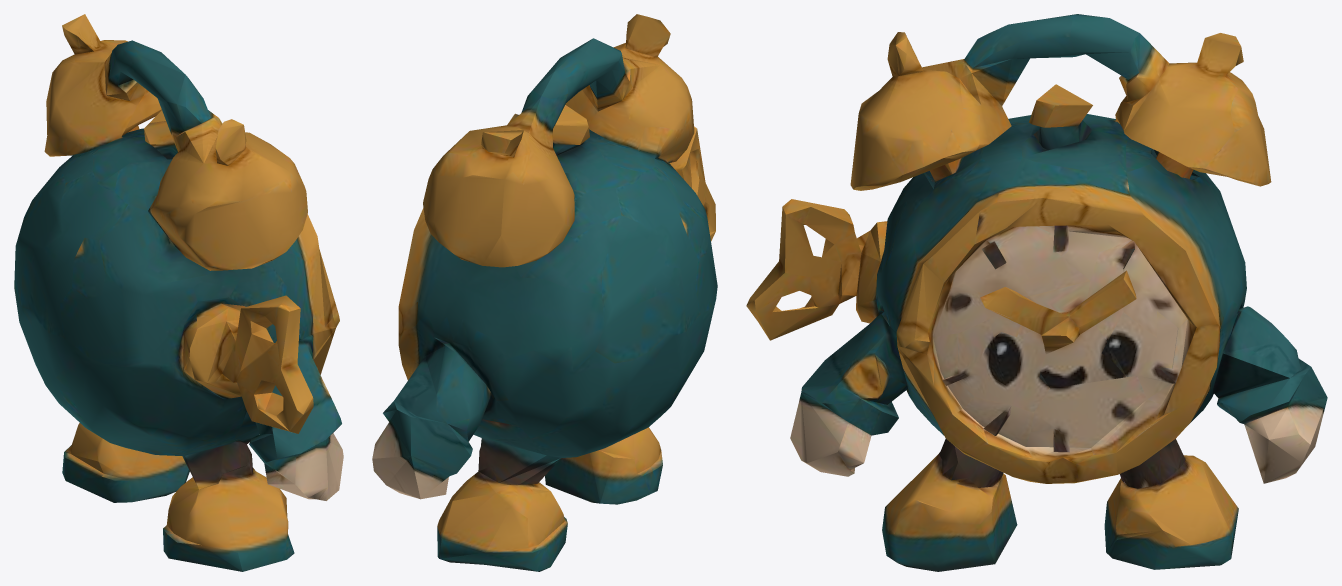
The model's file is tick.glb.
3 views of the same model, side by side, from view 1: azimuth 30°, elevation 25°; view 2: azimuth 150°, elevation 25°; view 3: azimuth 270°, elevation 25° (orthographic). The views are drawn at different scales.
Visible parts, largest first — view 1: tripo_node_47ccd763-b805-4efb-85e4-4e4806763d1c; view 2: tripo_node_47ccd763-b805-4efb-85e4-4e4806763d1c; view 3: tripo_node_47ccd763-b805-4efb-85e4-4e4806763d1c.
Boxes of the visible parts, box(x1,y1,x2,y2) form: tripo_node_47ccd763-b805-4efb-85e4-4e4806763d1c: box(14, 14, 343, 571); tripo_node_47ccd763-b805-4efb-85e4-4e4806763d1c: box(372, 14, 717, 571); tripo_node_47ccd763-b805-4efb-85e4-4e4806763d1c: box(746, 14, 1327, 571).
Bounding box in the file's own units: 0.5239 × 0.9764 × 0.9959.
1 material, 1 textured.
